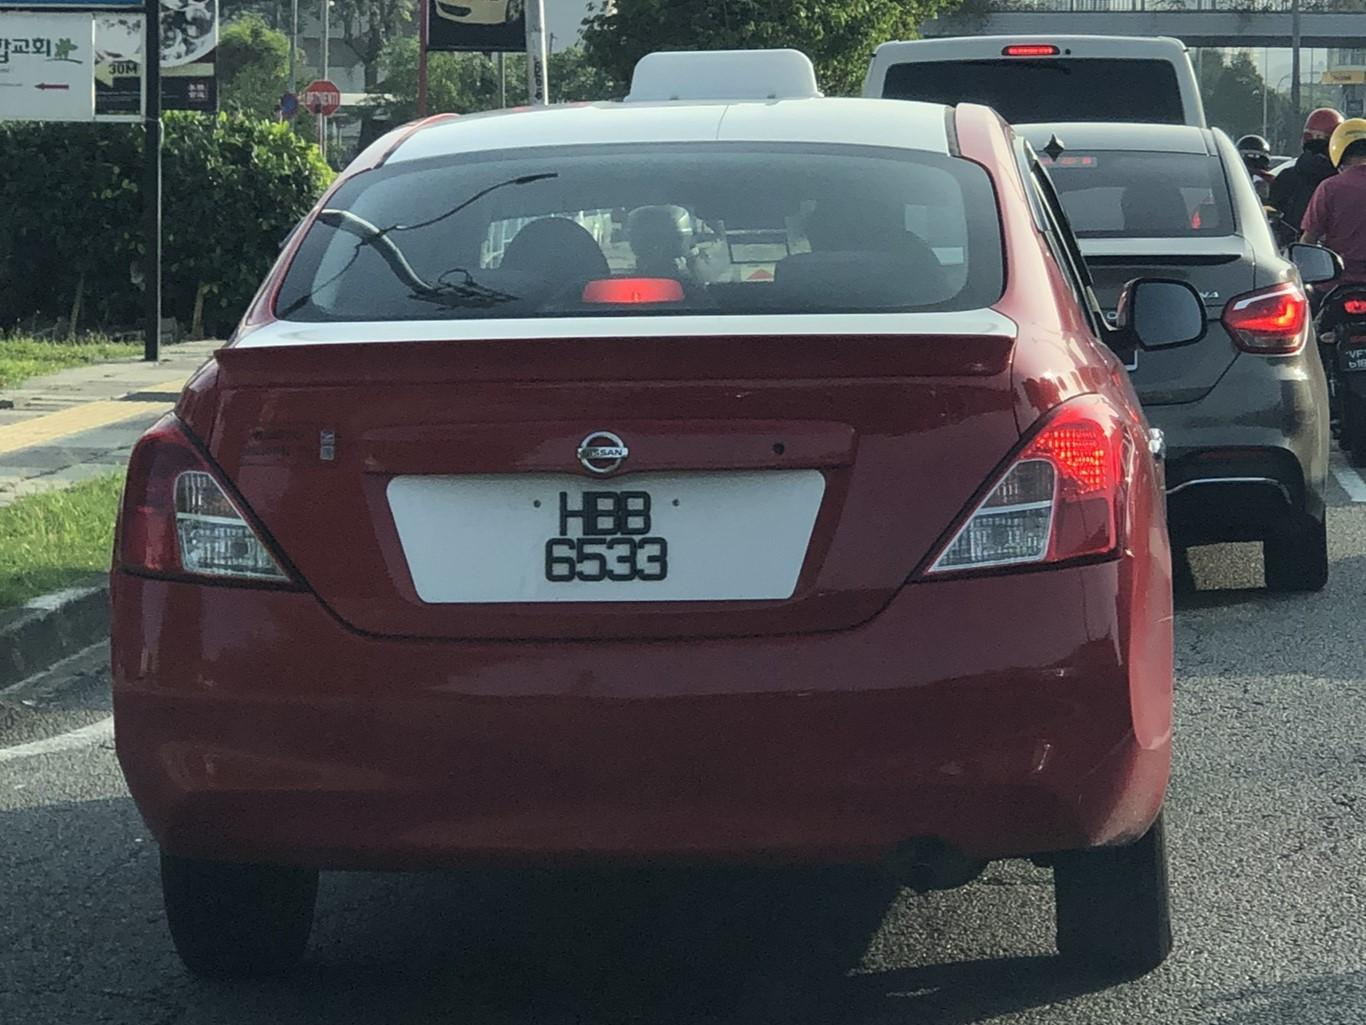License Plate: (429, 469, 790, 605)
